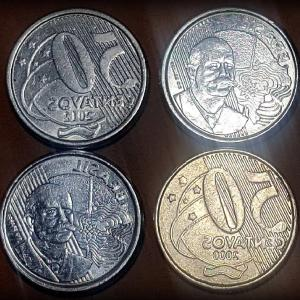50 cent: (154, 148, 297, 293), (160, 4, 300, 145), (2, 150, 142, 289), (8, 7, 148, 146)
